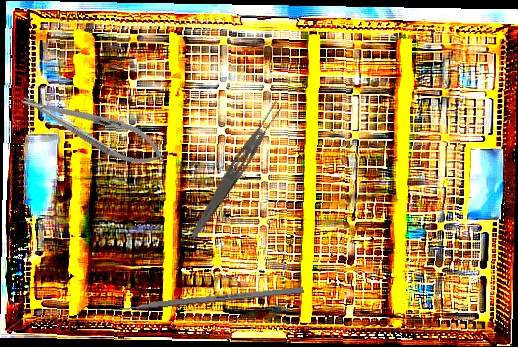Dressing Forceps: (186, 97, 288, 244)
Needle Holder: (15, 81, 171, 176)
Pusher: (98, 286, 304, 315)
